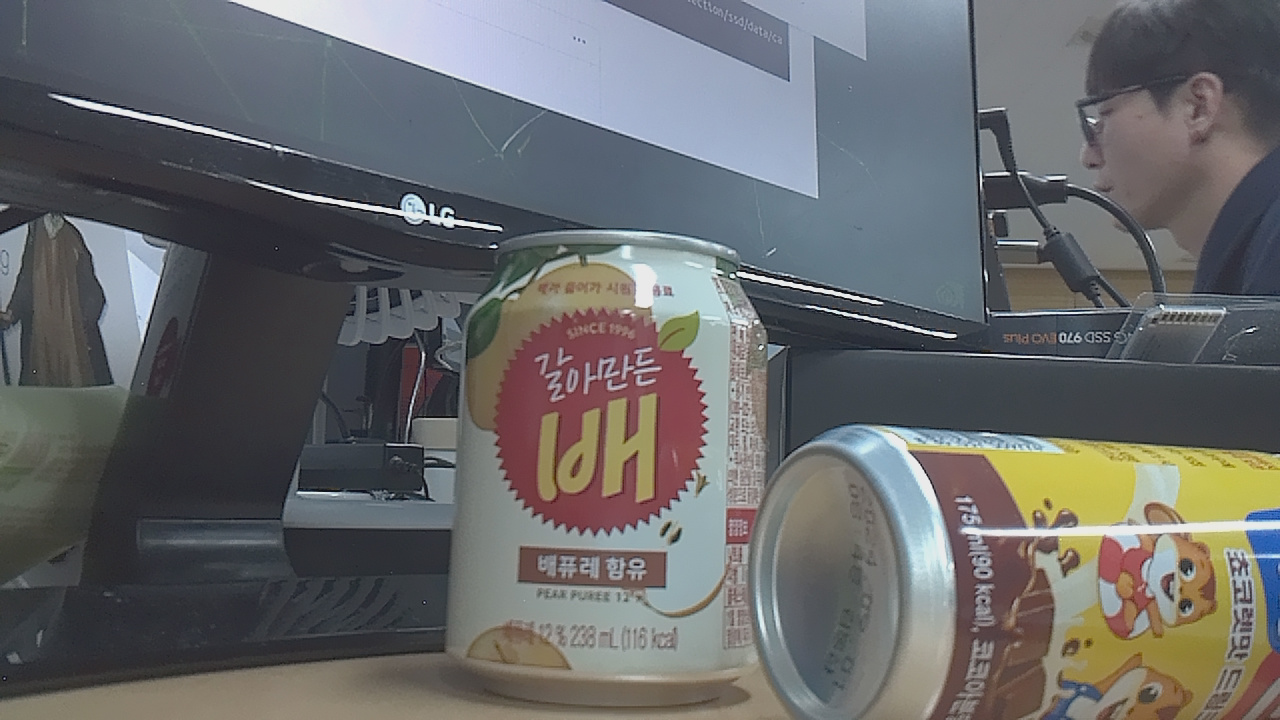IdH (pear juice): (447, 231, 773, 714)
jetty: (762, 425, 1280, 717)
